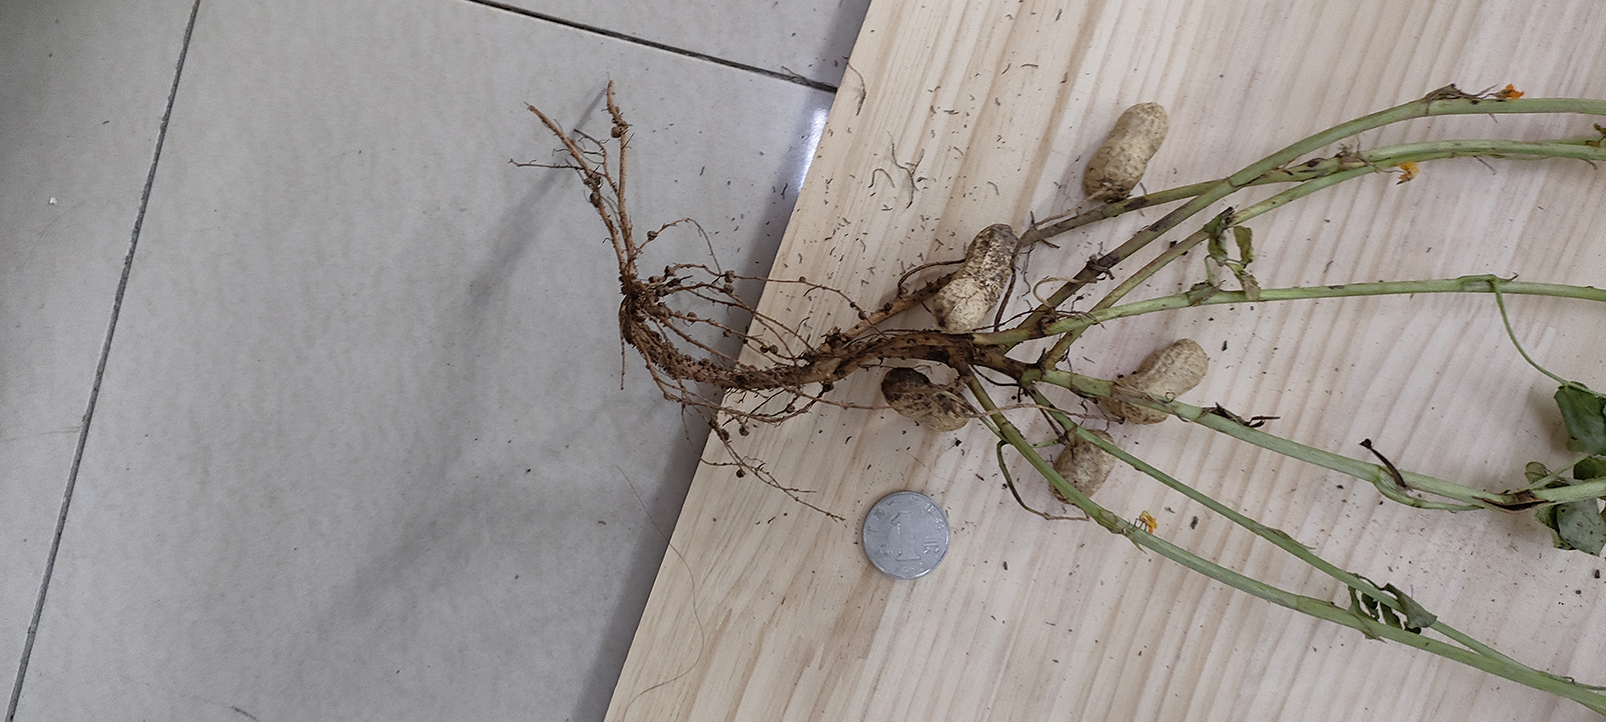h: (933, 224, 1021, 332), (1081, 102, 1170, 201), (1107, 338, 1209, 424)
l: (881, 367, 970, 431), (1049, 431, 1118, 501)
